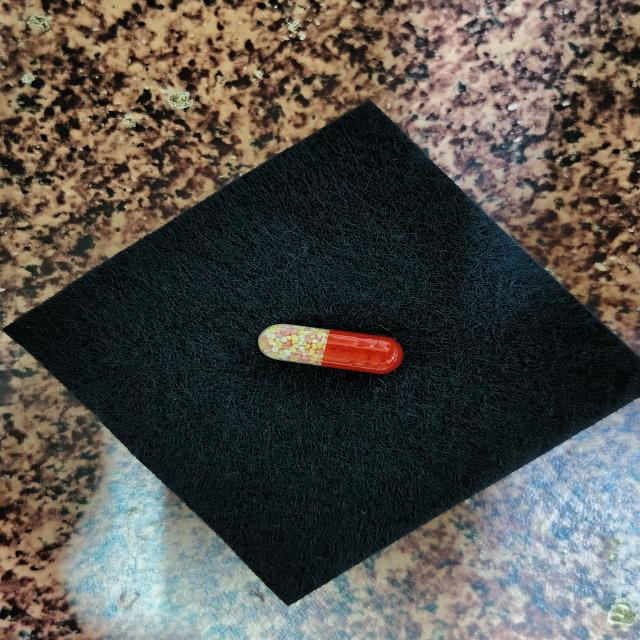Intact Capsule: (258, 324, 403, 374)
